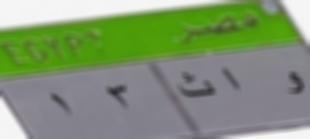1: (43, 83, 83, 121)
3: (102, 78, 135, 119)
alif: (218, 63, 248, 100)
thaa: (178, 68, 215, 104)
waw: (281, 67, 309, 107)
